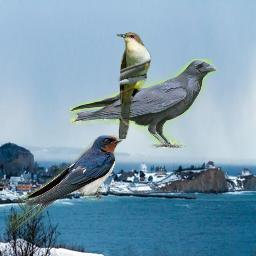Crow: (69, 59, 218, 148)
Cuckoo: (116, 32, 152, 139)
Swallow: (7, 135, 123, 232)
